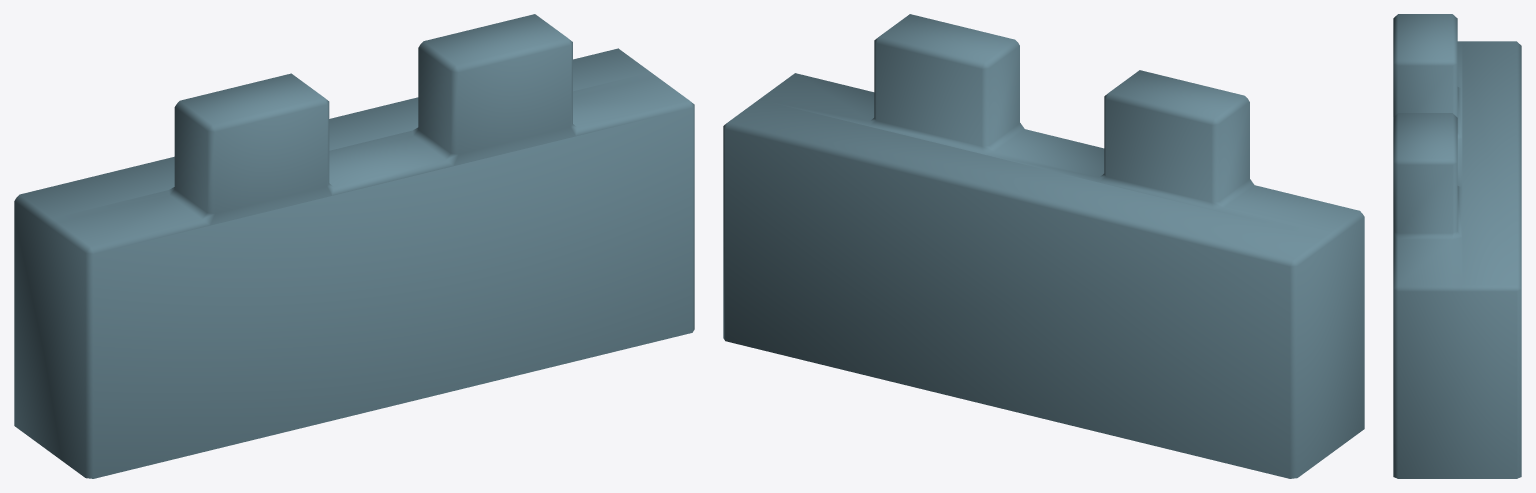
Rendered from wall.001.glb.
3 views of the same model, side by side, from view 1: azimuth 30°, elevation 25°; view 2: azimuth 150°, elevation 25°; view 3: azimuth 270°, elevation 25° (orthographic). The views are drawn at different scales.
Visible parts, largest first — view 1: wall.001; view 2: wall.001; view 3: wall.001.
Boxes of the visible parts, <box> form: wall.001: <box>14,14,694,478</box>; wall.001: <box>723,14,1364,478</box>; wall.001: <box>1393,14,1521,478</box>.
Size of the model in its own units: 6 by 3.04 by 1.31.
